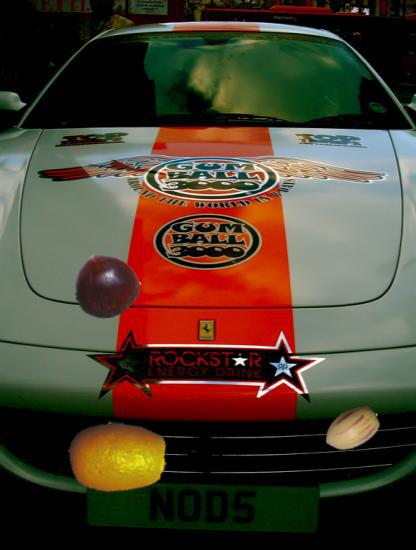Chestnut: (74, 252, 141, 319)
Kumquats: (67, 407, 168, 508)
Pepino: (323, 400, 381, 458)
